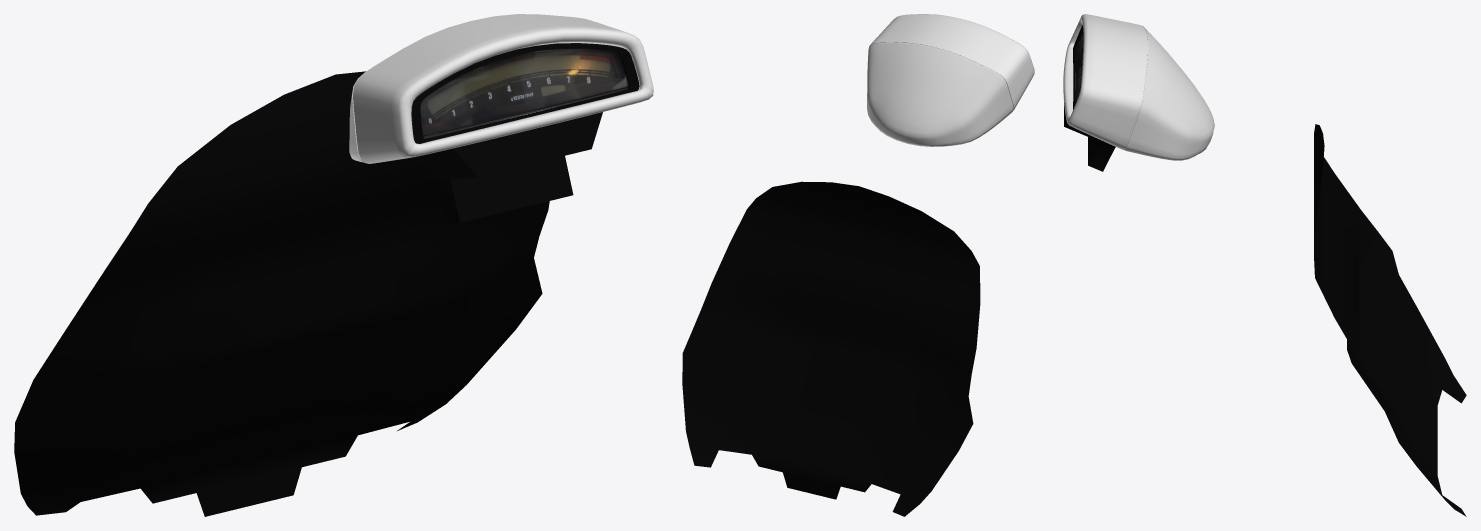
File: Tach_OG.glb
The picture shows the model from 3 angles, left to right: view 1: azimuth 30°, elevation 25°; view 2: azimuth 150°, elevation 25°; view 3: azimuth 270°, elevation 25°; orthographic projection. The views are drawn at different scales.
Parts seen in each view (by area): view 1: Tach_OG; view 2: Tach_OG; view 3: Tach_OG.
Boxes of the visible parts, x1=… form: Tach_OG: x1=14, y1=14, x2=653, y2=516; Tach_OG: x1=682, y1=14, x2=1034, y2=516; Tach_OG: x1=1063, y1=14, x2=1466, y2=516.
Bounding box in the file's own units: 0.3342 × 0.4033 × 0.3387.
Materials: 4 (1 with a texture image).
